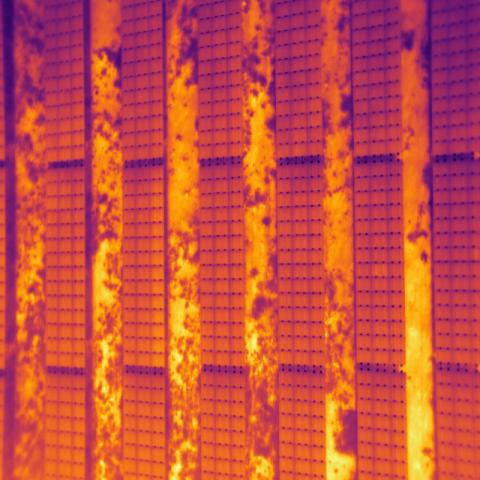fault: (371, 263, 387, 277)
